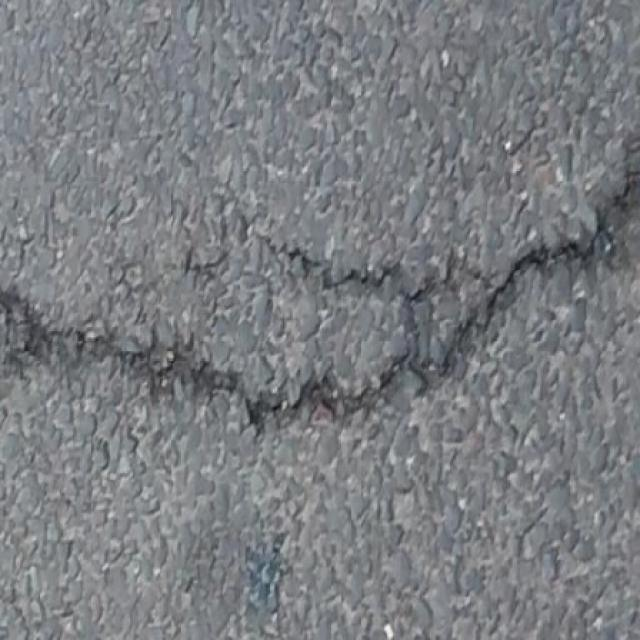Diagonal Crack: (0, 113, 640, 446)
